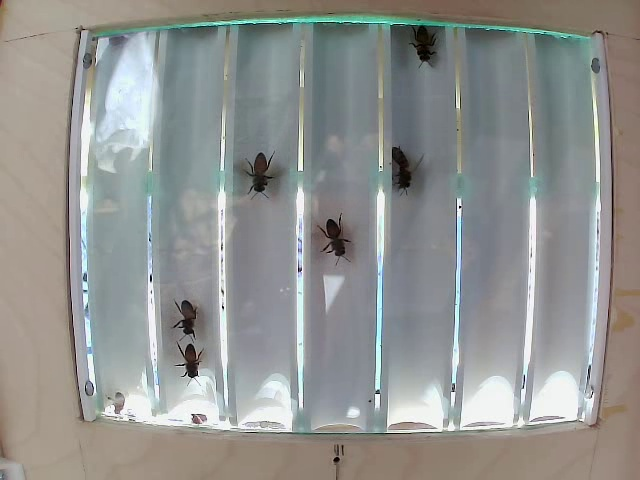bee: (307, 206, 361, 272), (375, 135, 422, 202), (240, 145, 276, 217), (398, 29, 439, 86), (159, 285, 200, 335), (166, 336, 215, 373)
